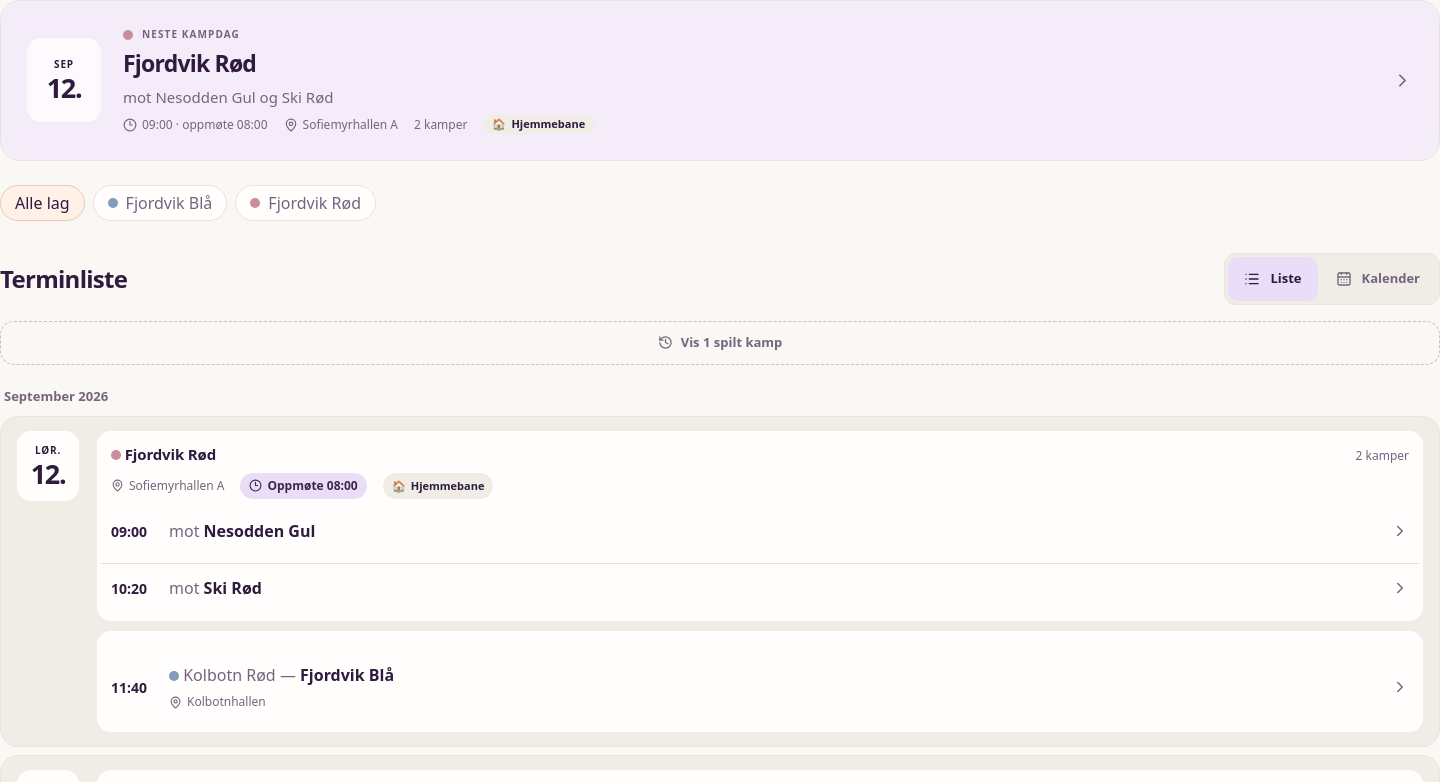
Test: MatchCalendar › filters the calendar down to one of our teams
Click the button "Fjordvik Blå": {"x": 160, "y": 203} [93,185,227,221]
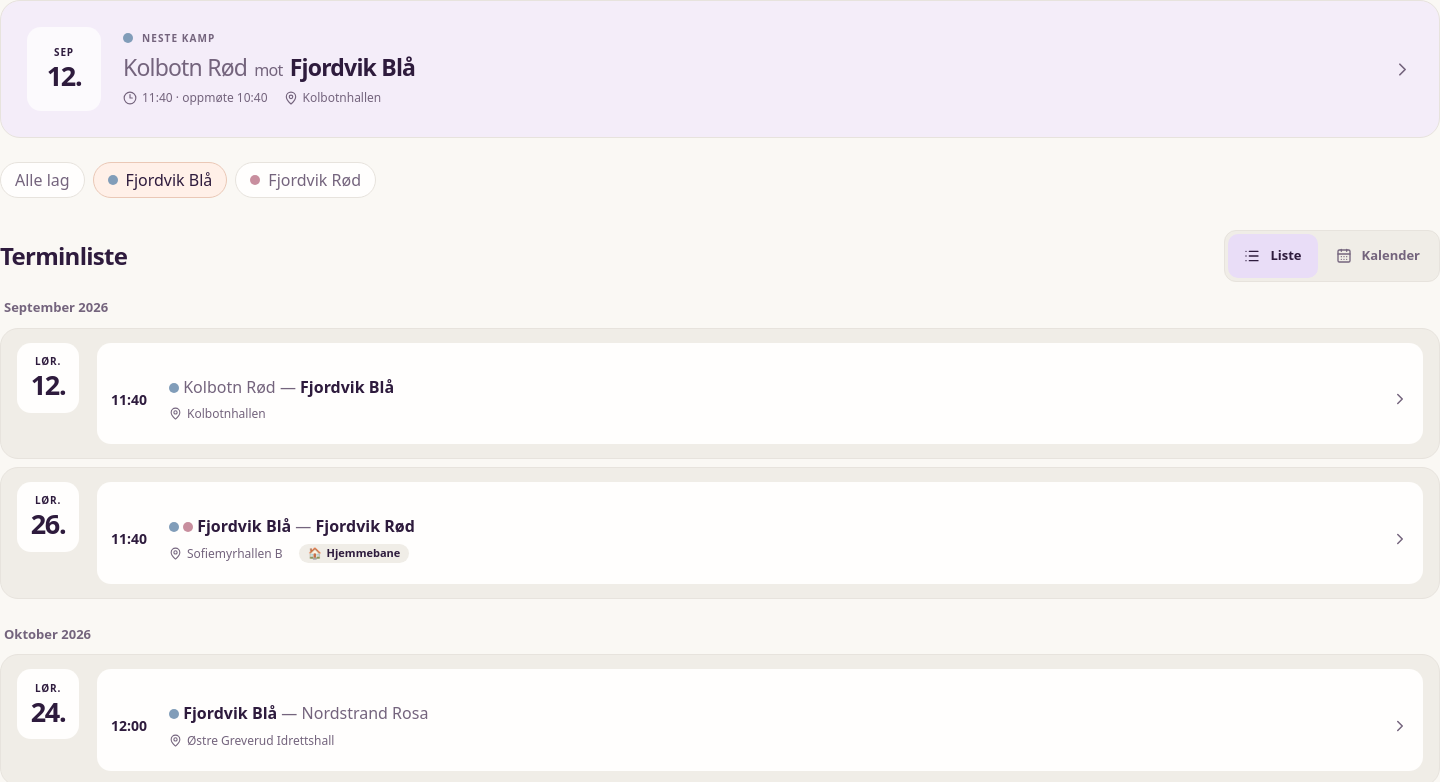
Now the text "Nesodden Gul" is gone
